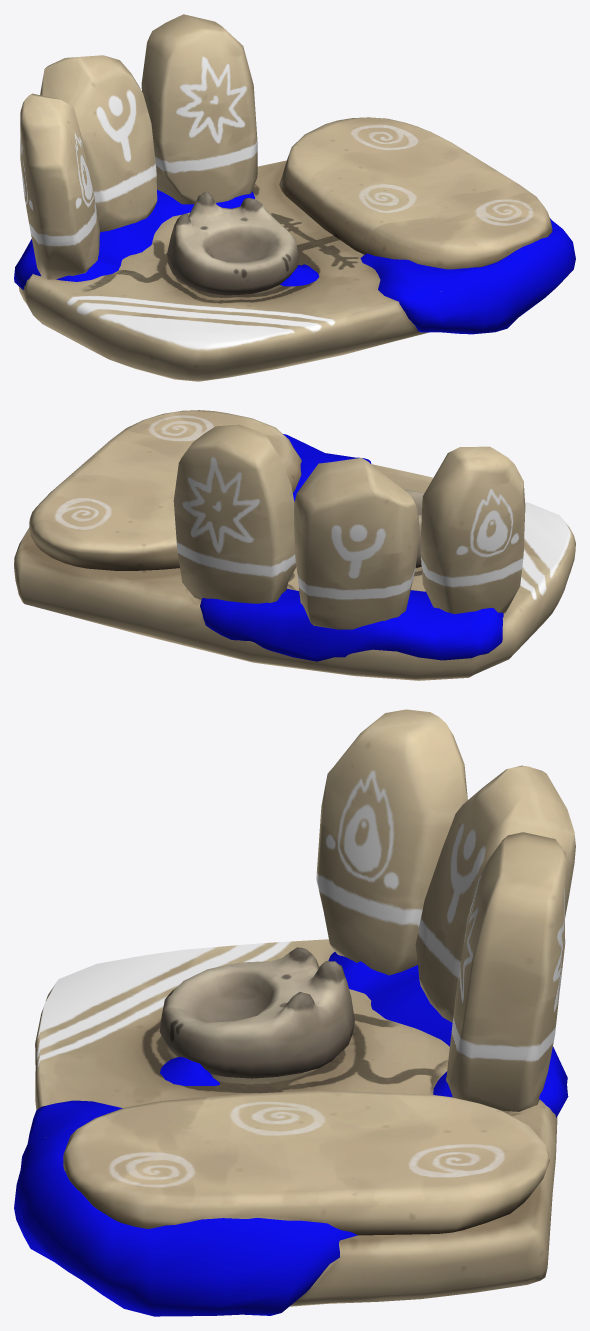
Rendered from SM_Playerboard.fbx.
3 renders of one model, top to bottom at view 1: azimuth 30°, elevation 25°; view 2: azimuth 150°, elevation 25°; view 3: azimuth 270°, elevation 25°, orthographic. The views are drawn at different scales.
Visible parts, largest first — view 1: SM_Playerboard, SM_Stone_Shoot, SM_Stone_Summon, SM_Stone_Move; view 2: SM_Playerboard, SM_Stone_Shoot, SM_Stone_Summon, SM_Stone_Move; view 3: SM_Playerboard, SM_Stone_Move, SM_Stone_Shoot, SM_Stone_Summon.
Part boxes in pixels (box(x1,y1,x2,y2)): SM_Playerboard: box(14, 117, 575, 381); SM_Stone_Shoot: box(141, 14, 257, 204); SM_Stone_Summon: box(40, 55, 157, 232); SM_Stone_Move: box(20, 93, 99, 279); SM_Playerboard: box(14, 410, 575, 680); SM_Stone_Shoot: box(173, 424, 296, 603); SM_Stone_Summon: box(294, 457, 419, 629); SM_Stone_Move: box(420, 446, 525, 614); SM_Playerboard: box(14, 939, 568, 1316); SM_Stone_Move: box(316, 709, 467, 975); SM_Stone_Shoot: box(446, 832, 566, 1111); SM_Stone_Summon: box(415, 765, 575, 1022).
Bounding box in the file's own units: 22.07 × 9.99 × 15.94.
